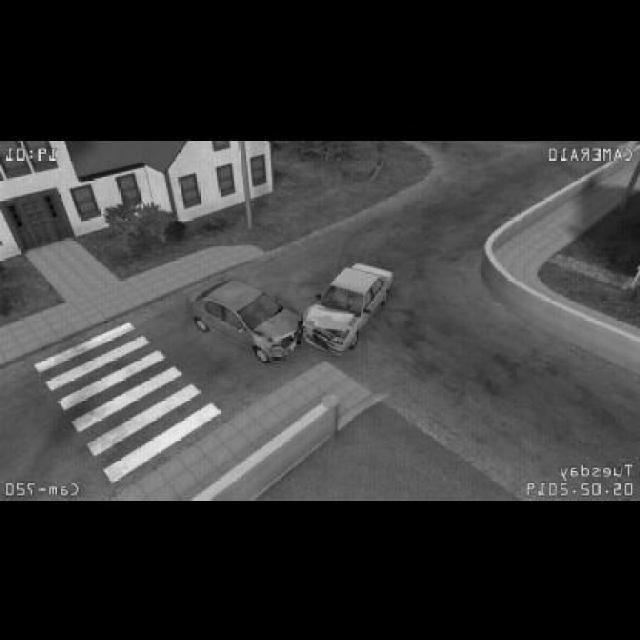accident: (178, 251, 400, 368)
